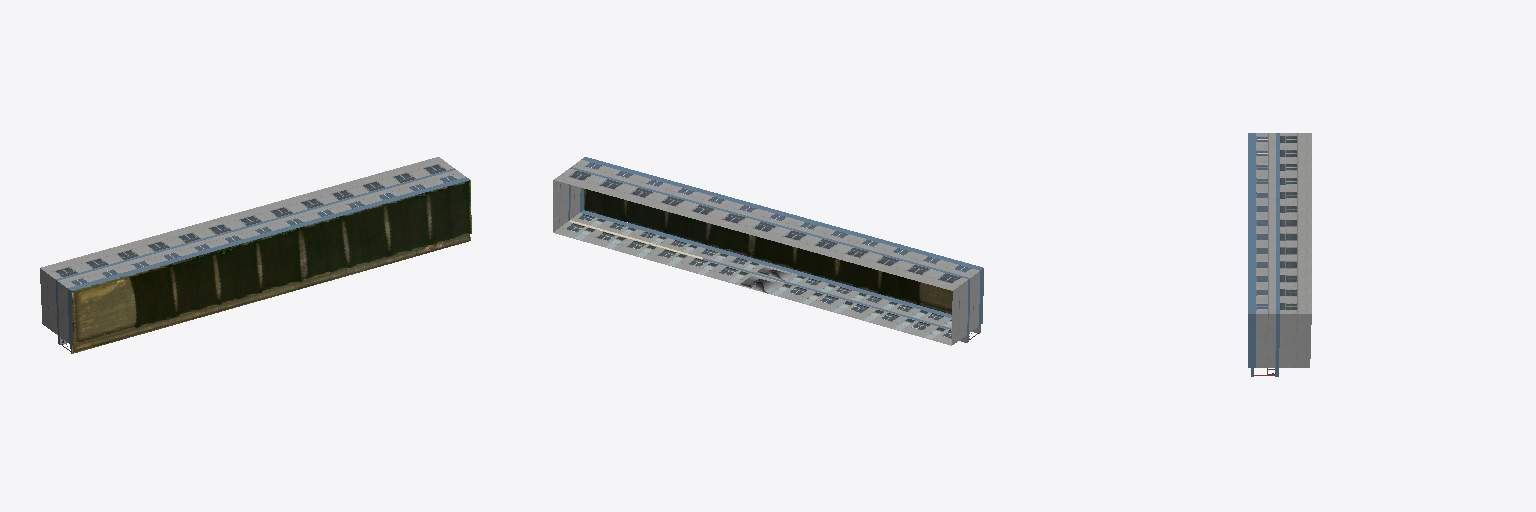
3 renders of one model, left to right at view 1: azimuth 30°, elevation 25°; view 2: azimuth 150°, elevation 25°; view 3: azimuth 270°, elevation 25°, orthographic.
Visible parts, largest first — view 1: Group_MatrixTransform_i96168_Geometry_13, Group_MatrixTransform_i96168_Geometry_1, Group_MatrixTransform_i96168_Geometry_0, Group_MatrixTransform_i96168_Geometry_12, Group_MatrixTransform_i96168_Geometry_6, Group_MatrixTransform_i96168_Geometry_7; view 2: Group_MatrixTransform_i96168_Geometry_13, Group_MatrixTransform_i96168_Geometry_1, Group_MatrixTransform_i96168_Geometry_0, Group_MatrixTransform_i96168_Geometry_4, Group_MatrixTransform_i96168_Geometry_5, Group_MatrixTransform_i96168_Geometry_6, Group_MatrixTransform_i96168_Geometry_7; view 3: Group_MatrixTransform_i96168_Geometry_0, Group_MatrixTransform_i96168_Geometry_1, Group_MatrixTransform_i96168_Geometry_7, Group_MatrixTransform_i96168_Geometry_6.
Part boxes in pixels (bbox=[...]): Group_MatrixTransform_i96168_Geometry_13: bbox=[71, 180, 471, 346]; Group_MatrixTransform_i96168_Geometry_1: bbox=[56, 168, 469, 290]; Group_MatrixTransform_i96168_Geometry_0: bbox=[41, 157, 453, 278]; Group_MatrixTransform_i96168_Geometry_12: bbox=[72, 234, 470, 353]; Group_MatrixTransform_i96168_Geometry_6: bbox=[40, 268, 57, 334]; Group_MatrixTransform_i96168_Geometry_7: bbox=[56, 280, 72, 345]; Group_MatrixTransform_i96168_Geometry_13: bbox=[584, 189, 952, 314]; Group_MatrixTransform_i96168_Geometry_1: bbox=[570, 157, 982, 278]; Group_MatrixTransform_i96168_Geometry_0: bbox=[554, 168, 967, 290]; Group_MatrixTransform_i96168_Geometry_4: bbox=[553, 221, 951, 345]; Group_MatrixTransform_i96168_Geometry_5: bbox=[571, 210, 951, 329]; Group_MatrixTransform_i96168_Geometry_6: bbox=[553, 180, 968, 344]; Group_MatrixTransform_i96168_Geometry_7: bbox=[568, 184, 983, 333]; Group_MatrixTransform_i96168_Geometry_0: bbox=[1280, 133, 1311, 313]; Group_MatrixTransform_i96168_Geometry_1: bbox=[1248, 133, 1279, 313]; Group_MatrixTransform_i96168_Geometry_7: bbox=[1248, 314, 1279, 367]; Group_MatrixTransform_i96168_Geometry_6: bbox=[1279, 314, 1311, 367].
Size of the model in its own units: 57.63 by 10.78 by 7.92.
Materials: 16 (16 with a texture image).